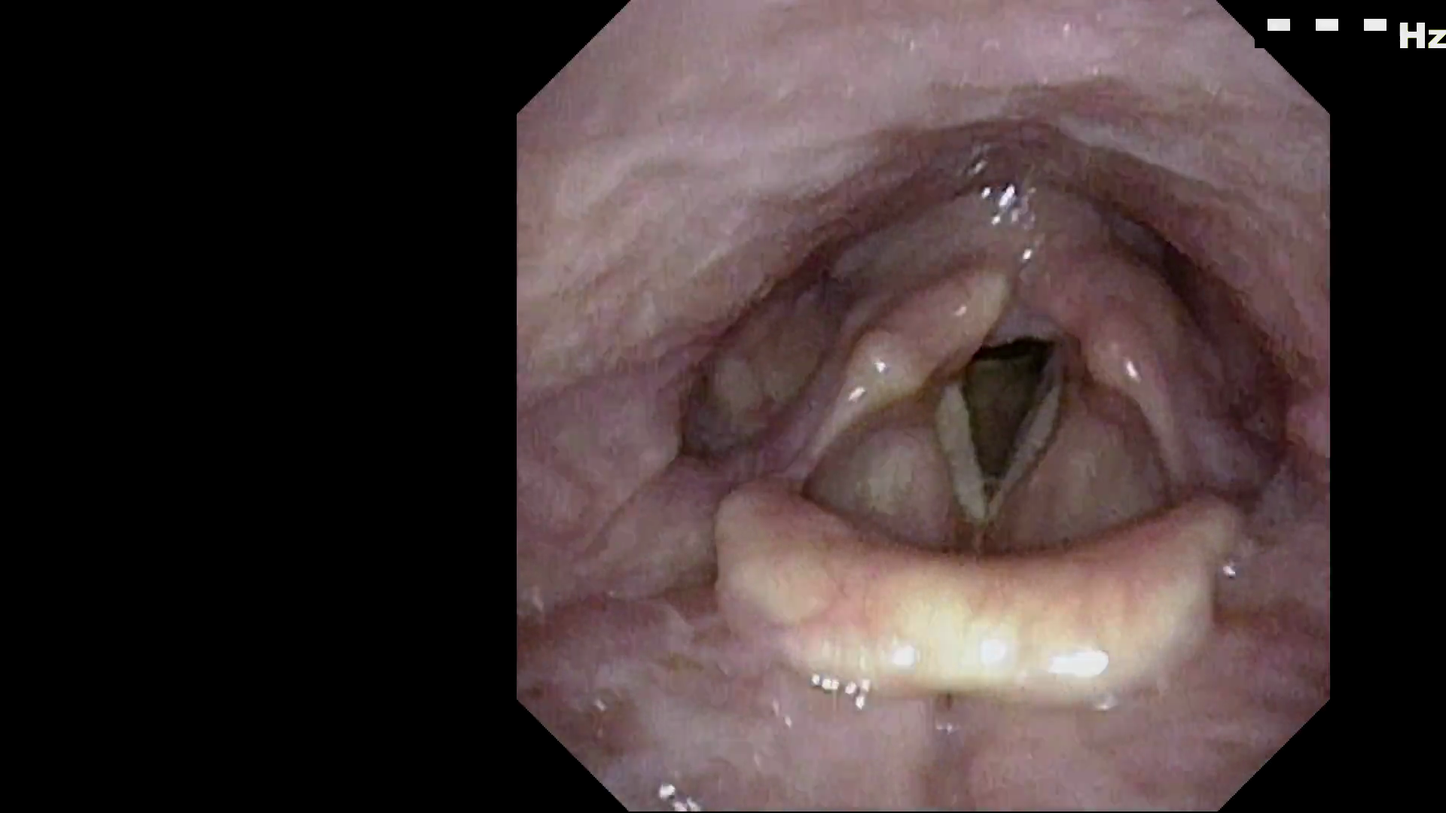epiglottis: (688, 376, 1286, 656)
trachea: (904, 248, 1083, 470)
